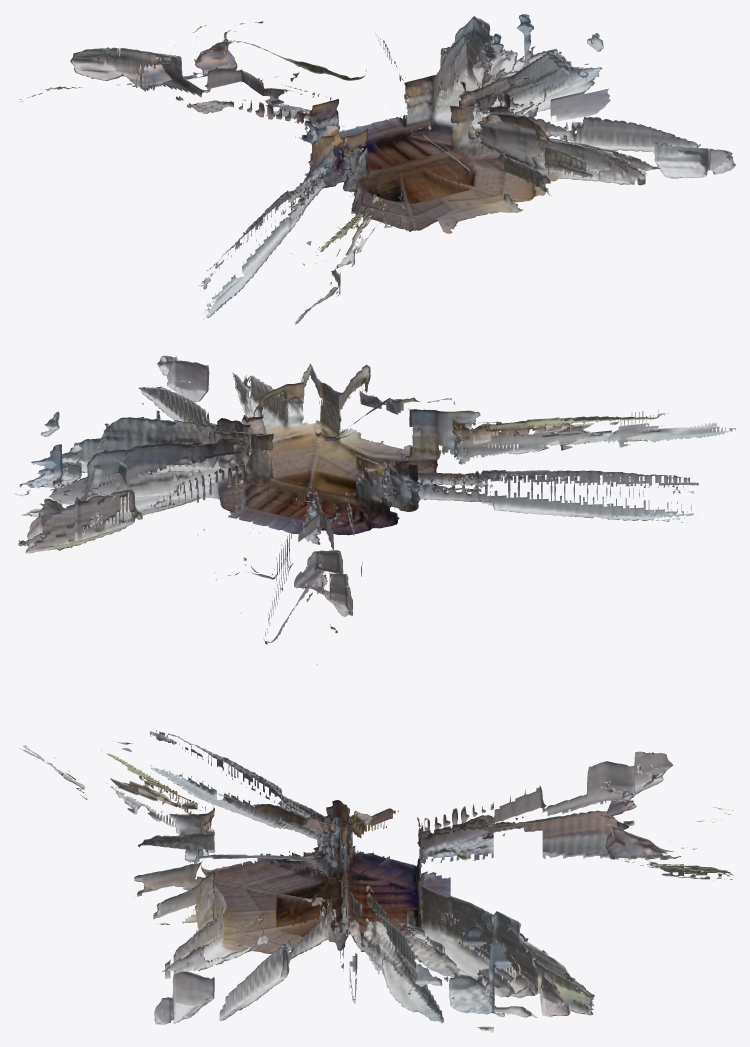
File: world-1769664309672.glb
3 renders of one model, top to bottom at view 1: azimuth 30°, elevation 25°; view 2: azimuth 150°, elevation 25°; view 3: azimuth 270°, elevation 25°, orthographic. The views are drawn at different scales.
Parts seen in each view (by area): view 1: world; view 2: world; view 3: world.
Boxes of the visible parts, x1,y1,x2,y2 form: world: (19,14,735,324); world: (14,355,735,665); world: (19,730,733,1032).
Bounding box in the file's own units: 21.33 × 3.03 × 23.08.
